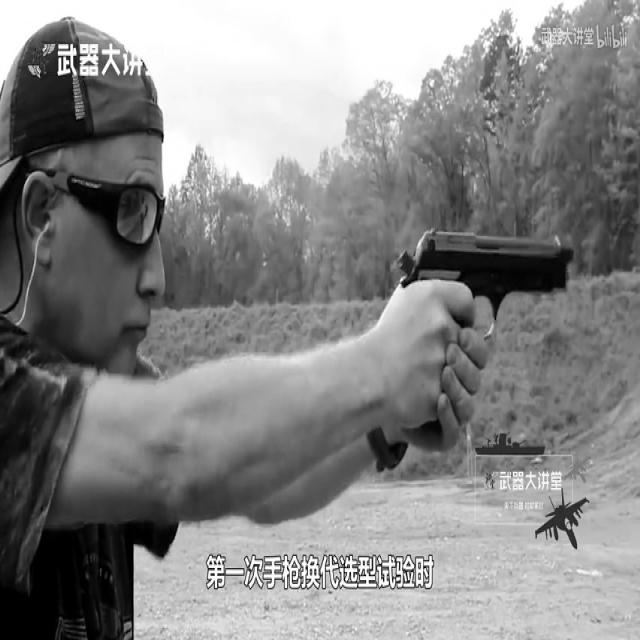Hand-Gun: (334, 131, 588, 501)
